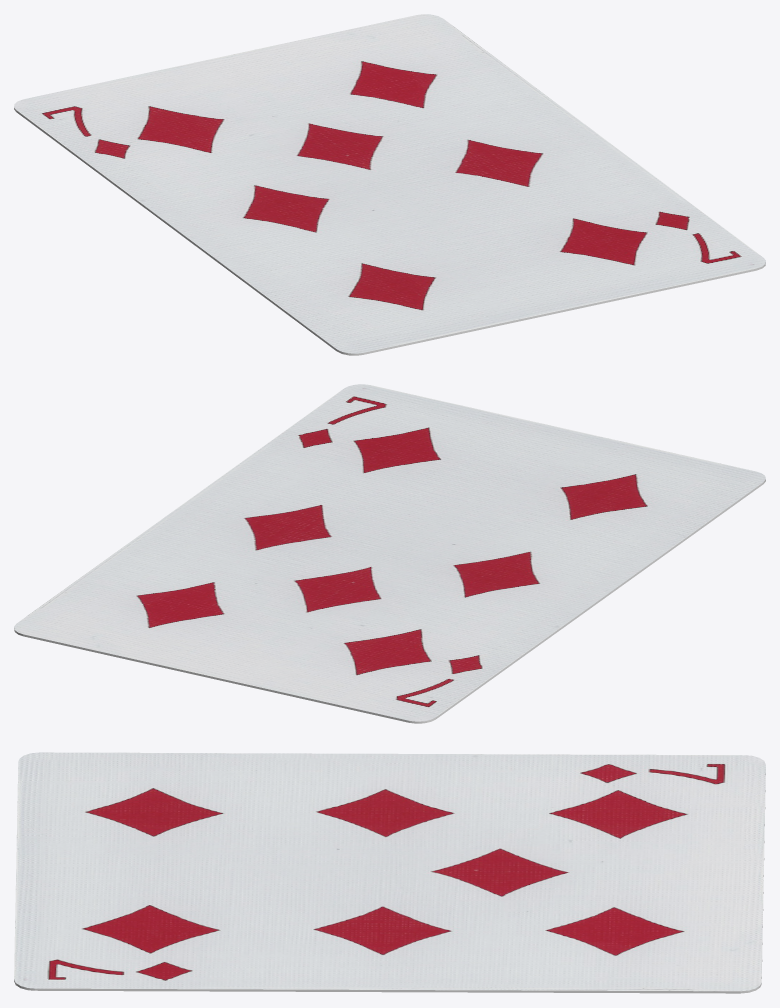
The model's file is diamonds7.fbx.
The picture shows the model from 3 angles, top to bottom: view 1: azimuth 30°, elevation 25°; view 2: azimuth 150°, elevation 25°; view 3: azimuth 270°, elevation 25°; orthographic projection. The views are drawn at different scales.
Parts seen in each view (by area): view 1: Diamonds_7_5; view 2: Diamonds_7_5; view 3: Diamonds_7_5.
Part boxes in pixels (x1,y1,x2,y2): Diamonds_7_5: (14,14,765,355); Diamonds_7_5: (14,384,765,723); Diamonds_7_5: (14,752,765,993).
Size of the model in its own units: 6.33 by 0.1793 by 8.85.
